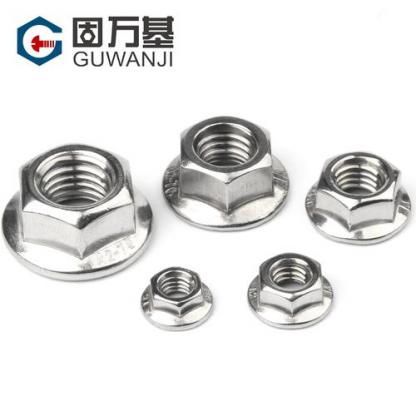FOD: (0, 142, 157, 286), (162, 113, 292, 236), (304, 149, 415, 247), (245, 250, 336, 333), (137, 265, 215, 332)
